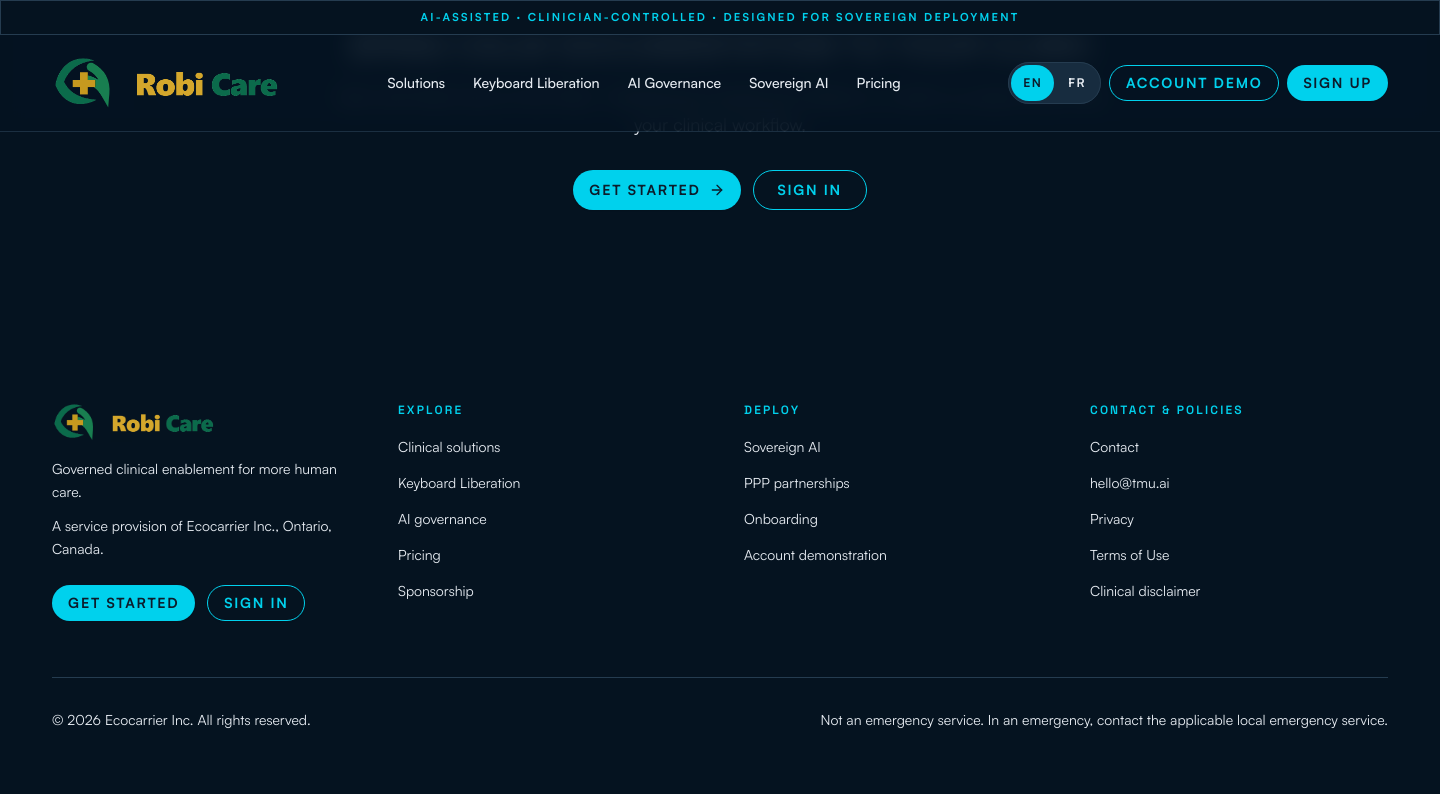
Test case: footer Sponsorship link › navigates to the Sponsorship page from the footer link
(page scrolled)
Click the link "Sponsorship". click: (436, 590)
box: [398,582,474,599]
(page scrolled)
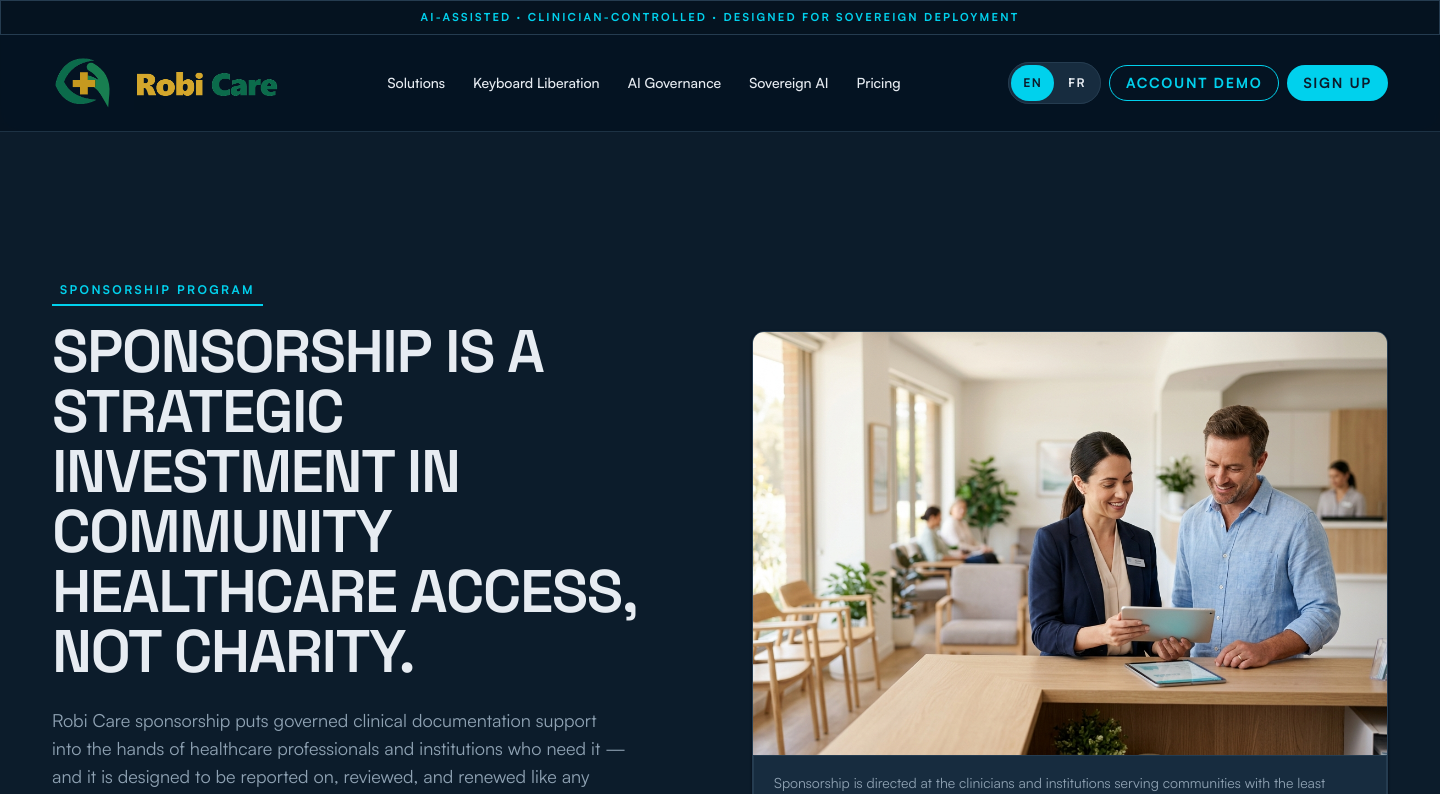
Expected: the header is shown, [0,0,1439,130]
Expected: the heading named "strategic investment in community healthcare access, not charity" is shown, [52,322,688,682]
